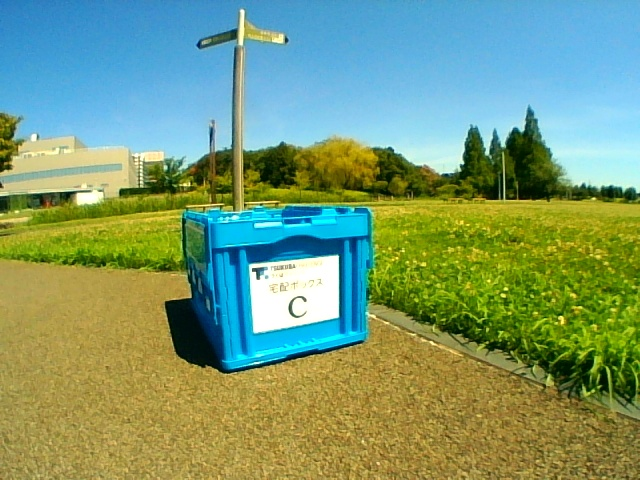blue_box: (222, 211, 363, 342)
tag_c: (263, 266, 327, 322)
